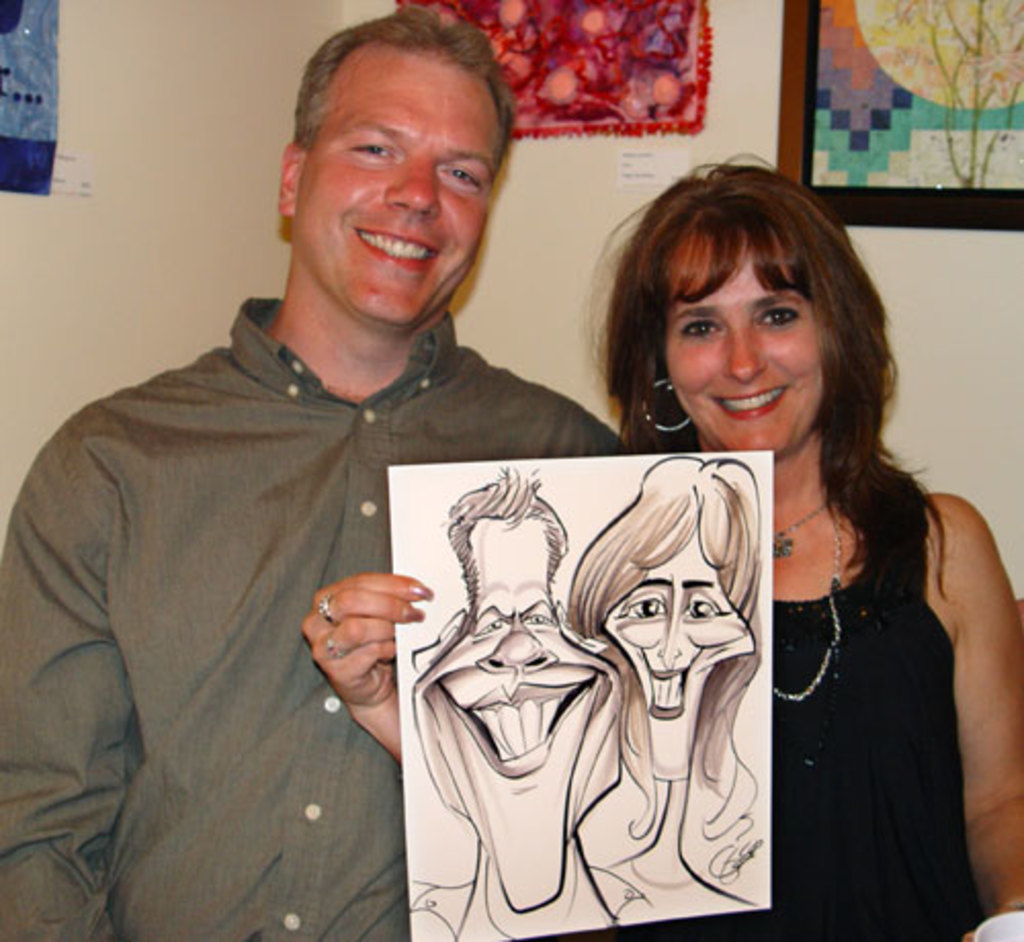Human-face: (426, 516, 604, 897), (293, 47, 510, 322), (655, 227, 829, 446), (604, 528, 754, 774)
